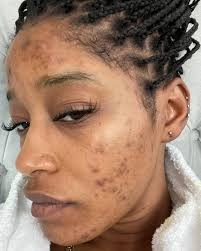Melasma: (92, 44, 168, 189), (35, 12, 48, 49)
